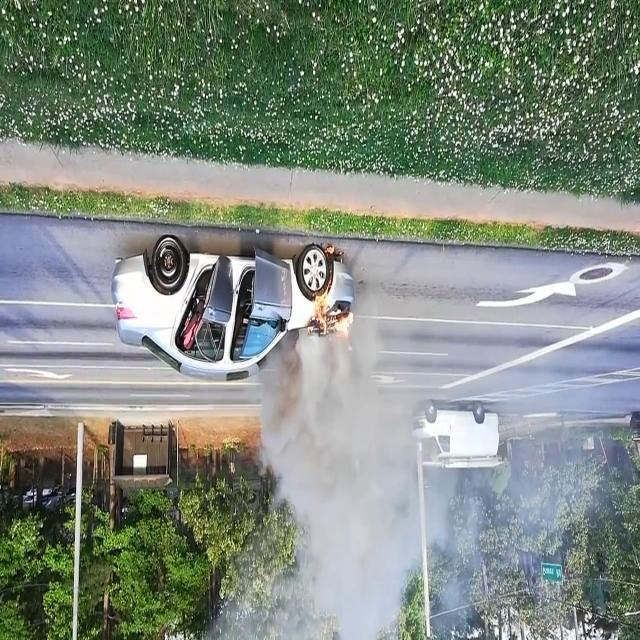fire: (306, 245, 361, 343)
